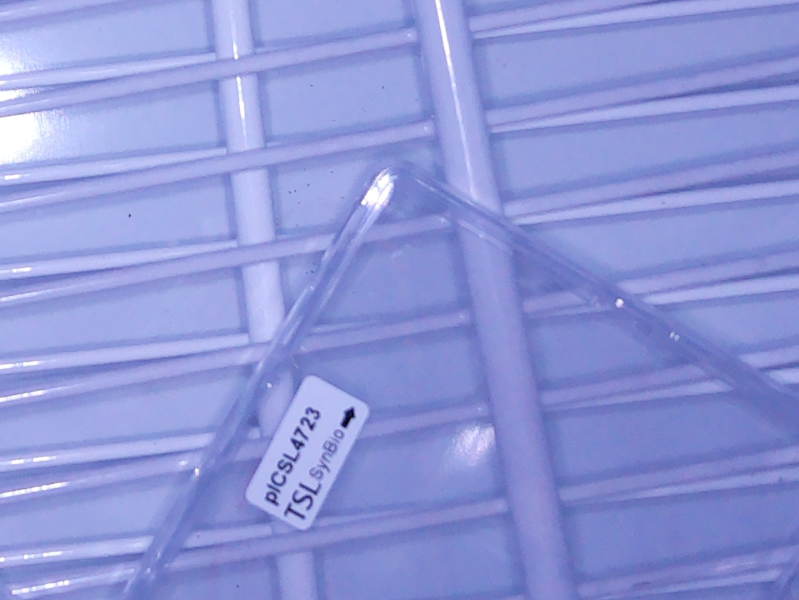plate: (116, 162, 799, 600)
